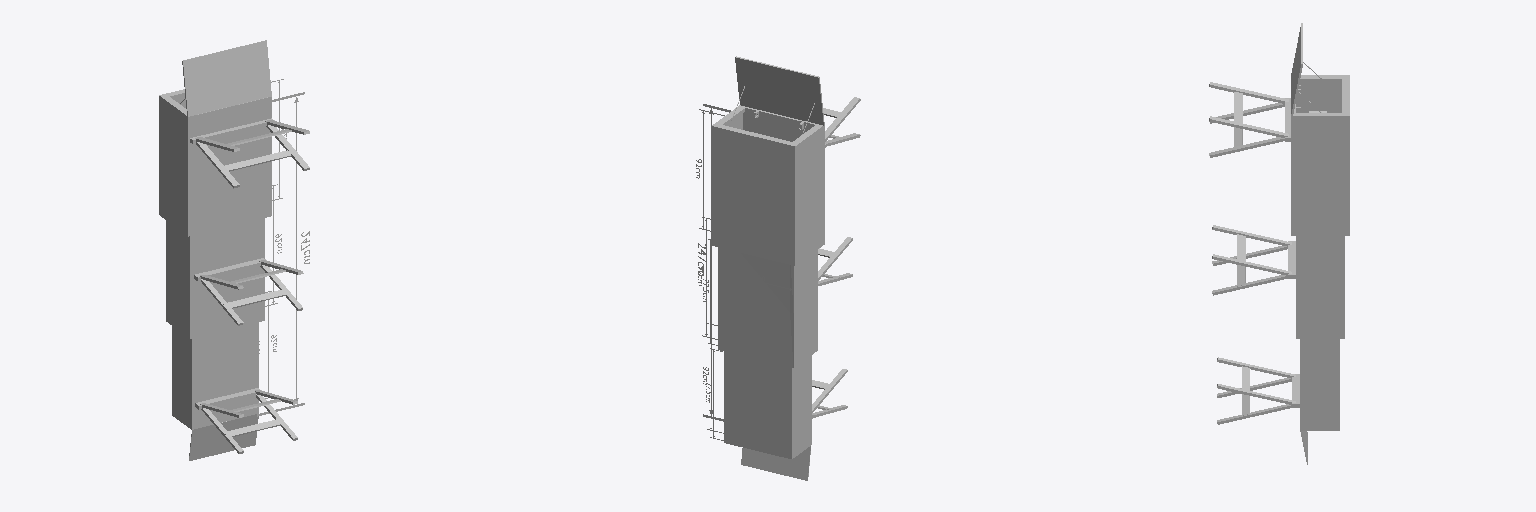
The model's file is sample.obj.
3 views of the same model, side by side, from view 1: azimuth 30°, elevation 25°; view 2: azimuth 150°, elevation 25°; view 3: azimuth 270°, elevation 25° (orthographic).
Visible parts, largest first — view 1: Cube, Cube.001_Cube.003, Cube.002_Cube.004, Plane, Cube.007_Cube.009, Cube.011_Cube.013, Cube.023_Cube.025, Plane.005_Plane.006; view 2: Cube, Cube.001_Cube.003, Cube.002_Cube.004, Plane, Plane.005_Plane.006, Cube.007_Cube.009, Cube.011_Cube.013, Cube.023_Cube.025; view 3: Cube, Cube.001_Cube.003, Cube.002_Cube.004, Cube.007_Cube.009, Cube.011_Cube.013, Cube.023_Cube.025, Plane.
Boxes of the visible parts, x1=… form: Cube: x1=159, y1=89, x2=271, y2=236; Cube.001_Cube.003: x1=166, y1=218, x2=264, y2=338; Cube.002_Cube.004: x1=172, y1=322, x2=258, y2=429; Plane: x1=182, y1=40, x2=271, y2=116; Cube.007_Cube.009: x1=190, y1=118, x2=309, y2=188; Cube.011_Cube.013: x1=194, y1=258, x2=303, y2=325; Cube.023_Cube.025: x1=195, y1=388, x2=297, y2=453; Plane.005_Plane.006: x1=189, y1=414, x2=258, y2=460; Cube: x1=711, y1=105, x2=824, y2=265; Cube.001_Cube.003: x1=718, y1=247, x2=817, y2=367; Cube.002_Cube.004: x1=724, y1=352, x2=811, y2=458; Plane: x1=735, y1=56, x2=824, y2=125; Plane.005_Plane.006: x1=741, y1=446, x2=810, y2=480; Cube.007_Cube.009: x1=823, y1=97, x2=860, y2=147; Cube.011_Cube.013: x1=818, y1=237, x2=852, y2=285; Cube.023_Cube.025: x1=812, y1=369, x2=847, y2=418; Cube: x1=1291, y1=75, x2=1349, y2=235; Cube.001_Cube.003: x1=1296, y1=236, x2=1344, y2=338; Cube.002_Cube.004: x1=1300, y1=339, x2=1339, y2=430; Cube.007_Cube.009: x1=1209, y1=82, x2=1290, y2=157; Cube.011_Cube.013: x1=1212, y1=225, x2=1295, y2=295; Cube.023_Cube.025: x1=1217, y1=357, x2=1299, y2=424; Plane: x1=1291, y1=23, x2=1302, y2=115.
Bounding box in the file's own units: 14.02 × 43.39 × 13.72.